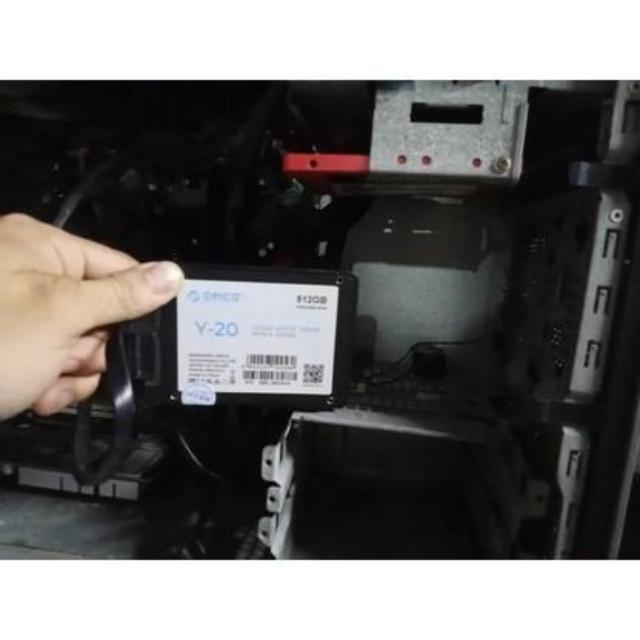DISK: (133, 247, 364, 416)
